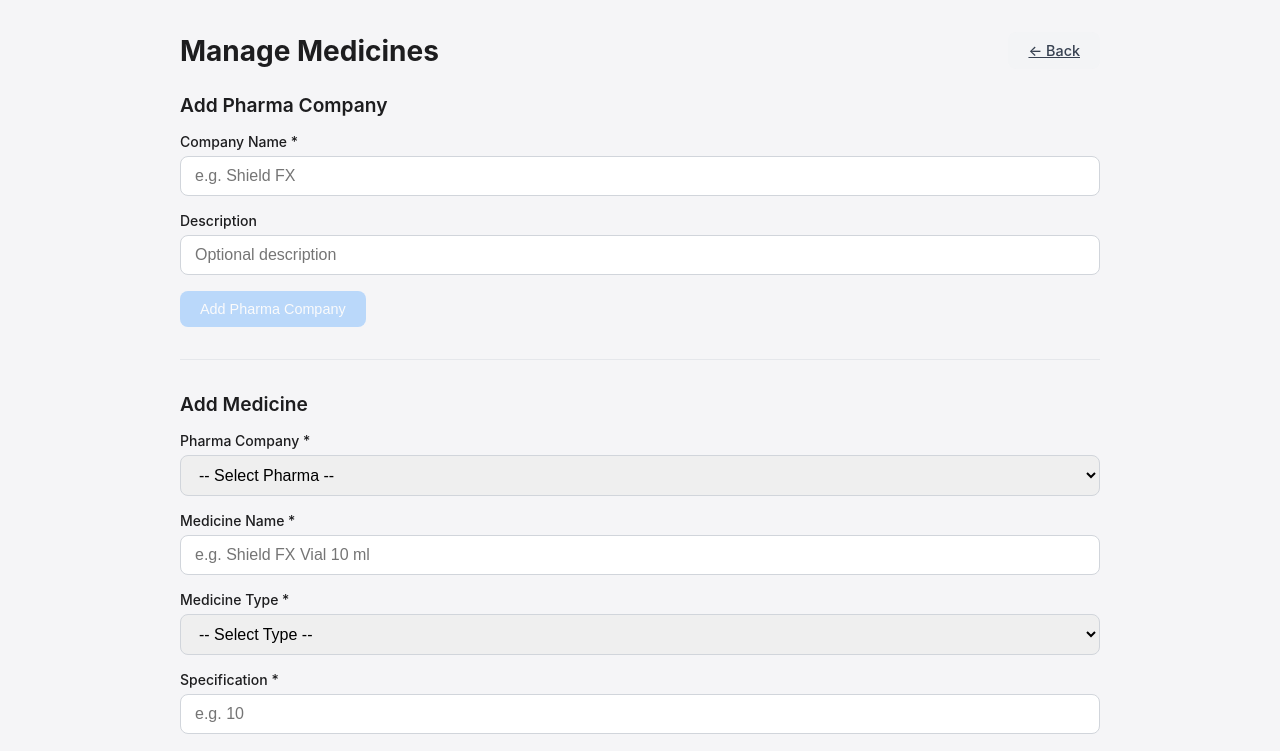
Test: ManageMedicines — add pharma company › shows error message when API fails
The image size is (1280, 751).
Step 1. Type "Duplicate" into the field labelled "Company Name *" → (640, 176), box [180, 156, 1100, 196]
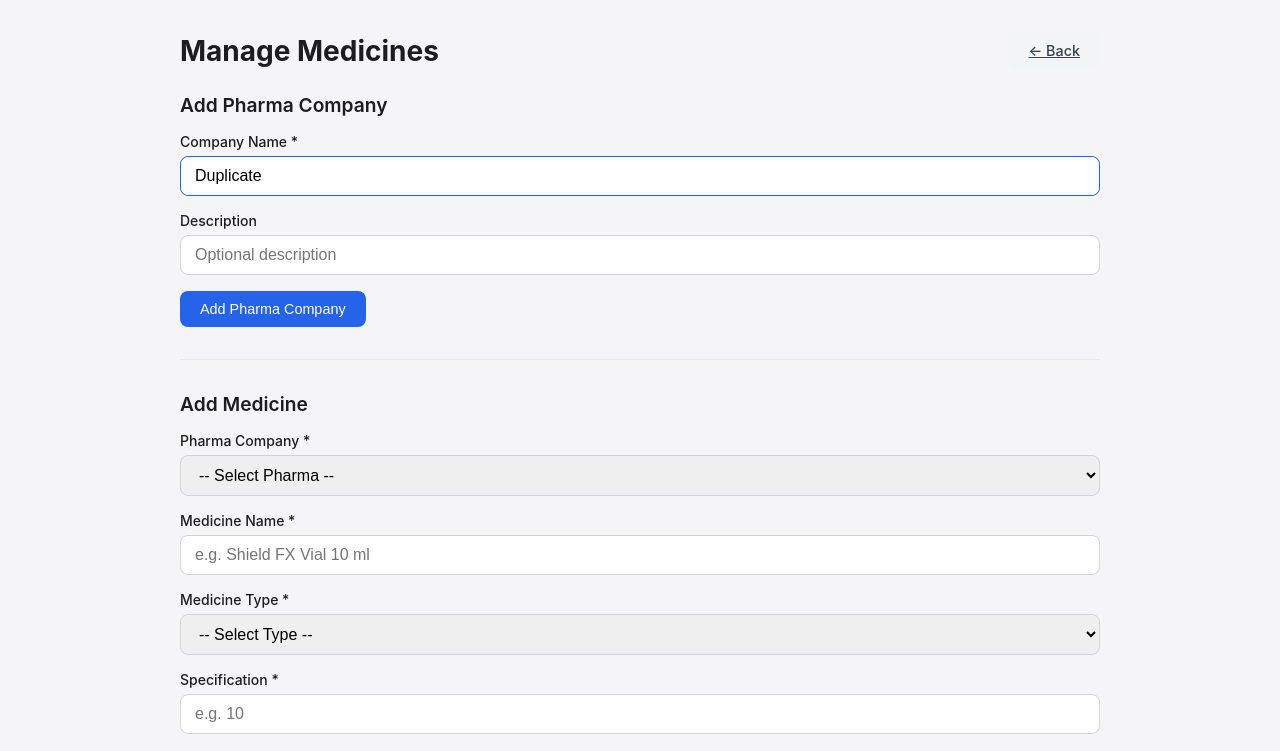
Step 2. Click the button "Add Pharma Company" → (273, 309), box [180, 291, 366, 327]
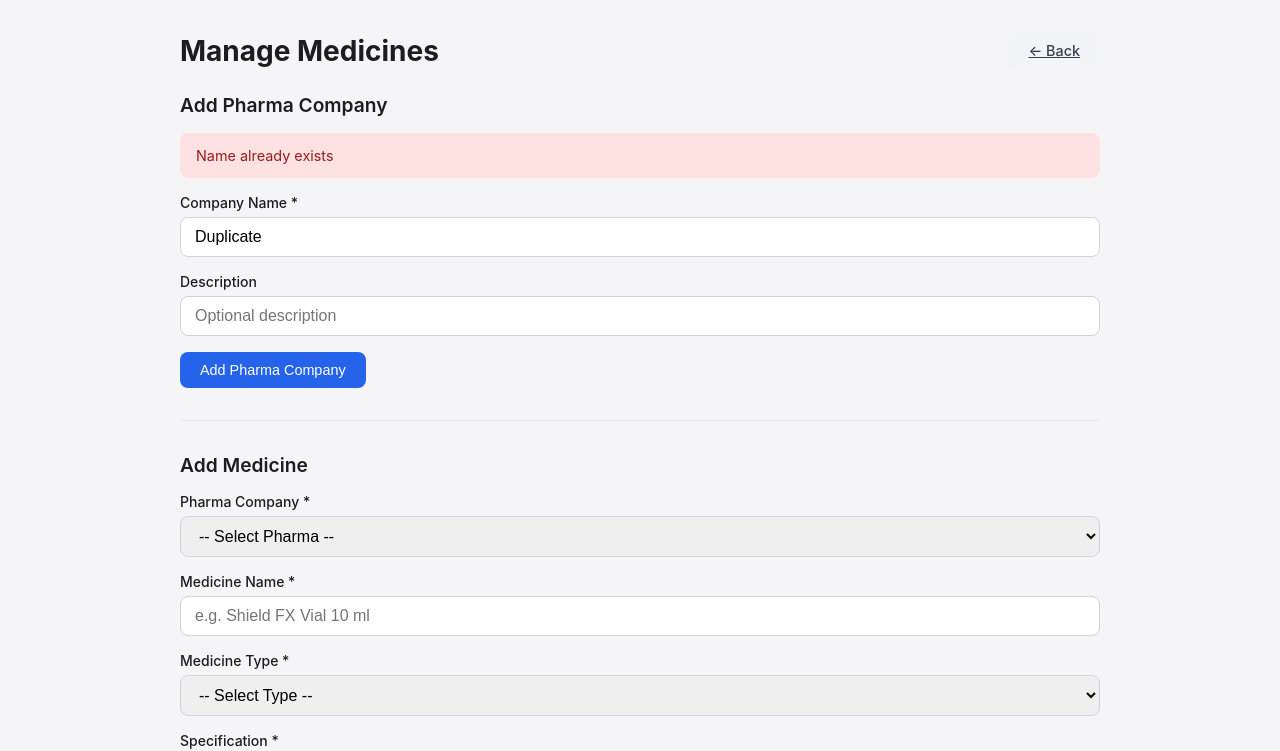
Expected: the message reads "Name already exists", [196, 147, 334, 164]
